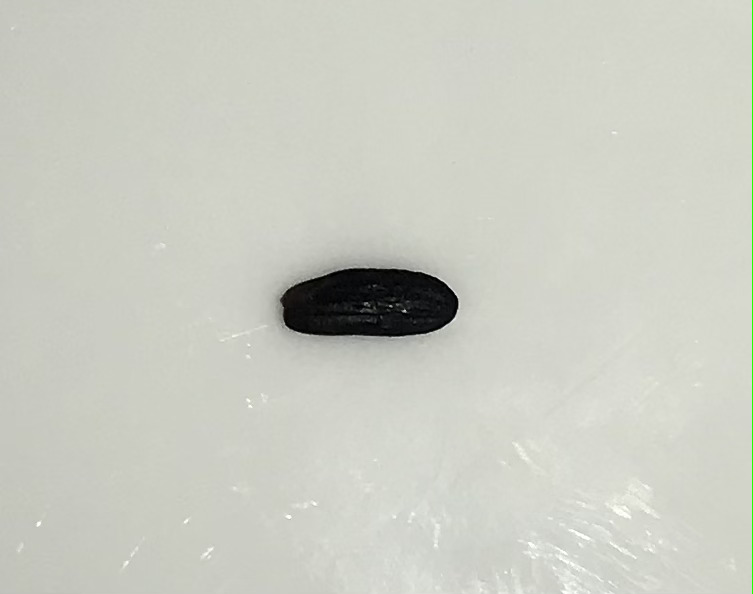Gao lut: (281, 267, 460, 339)
